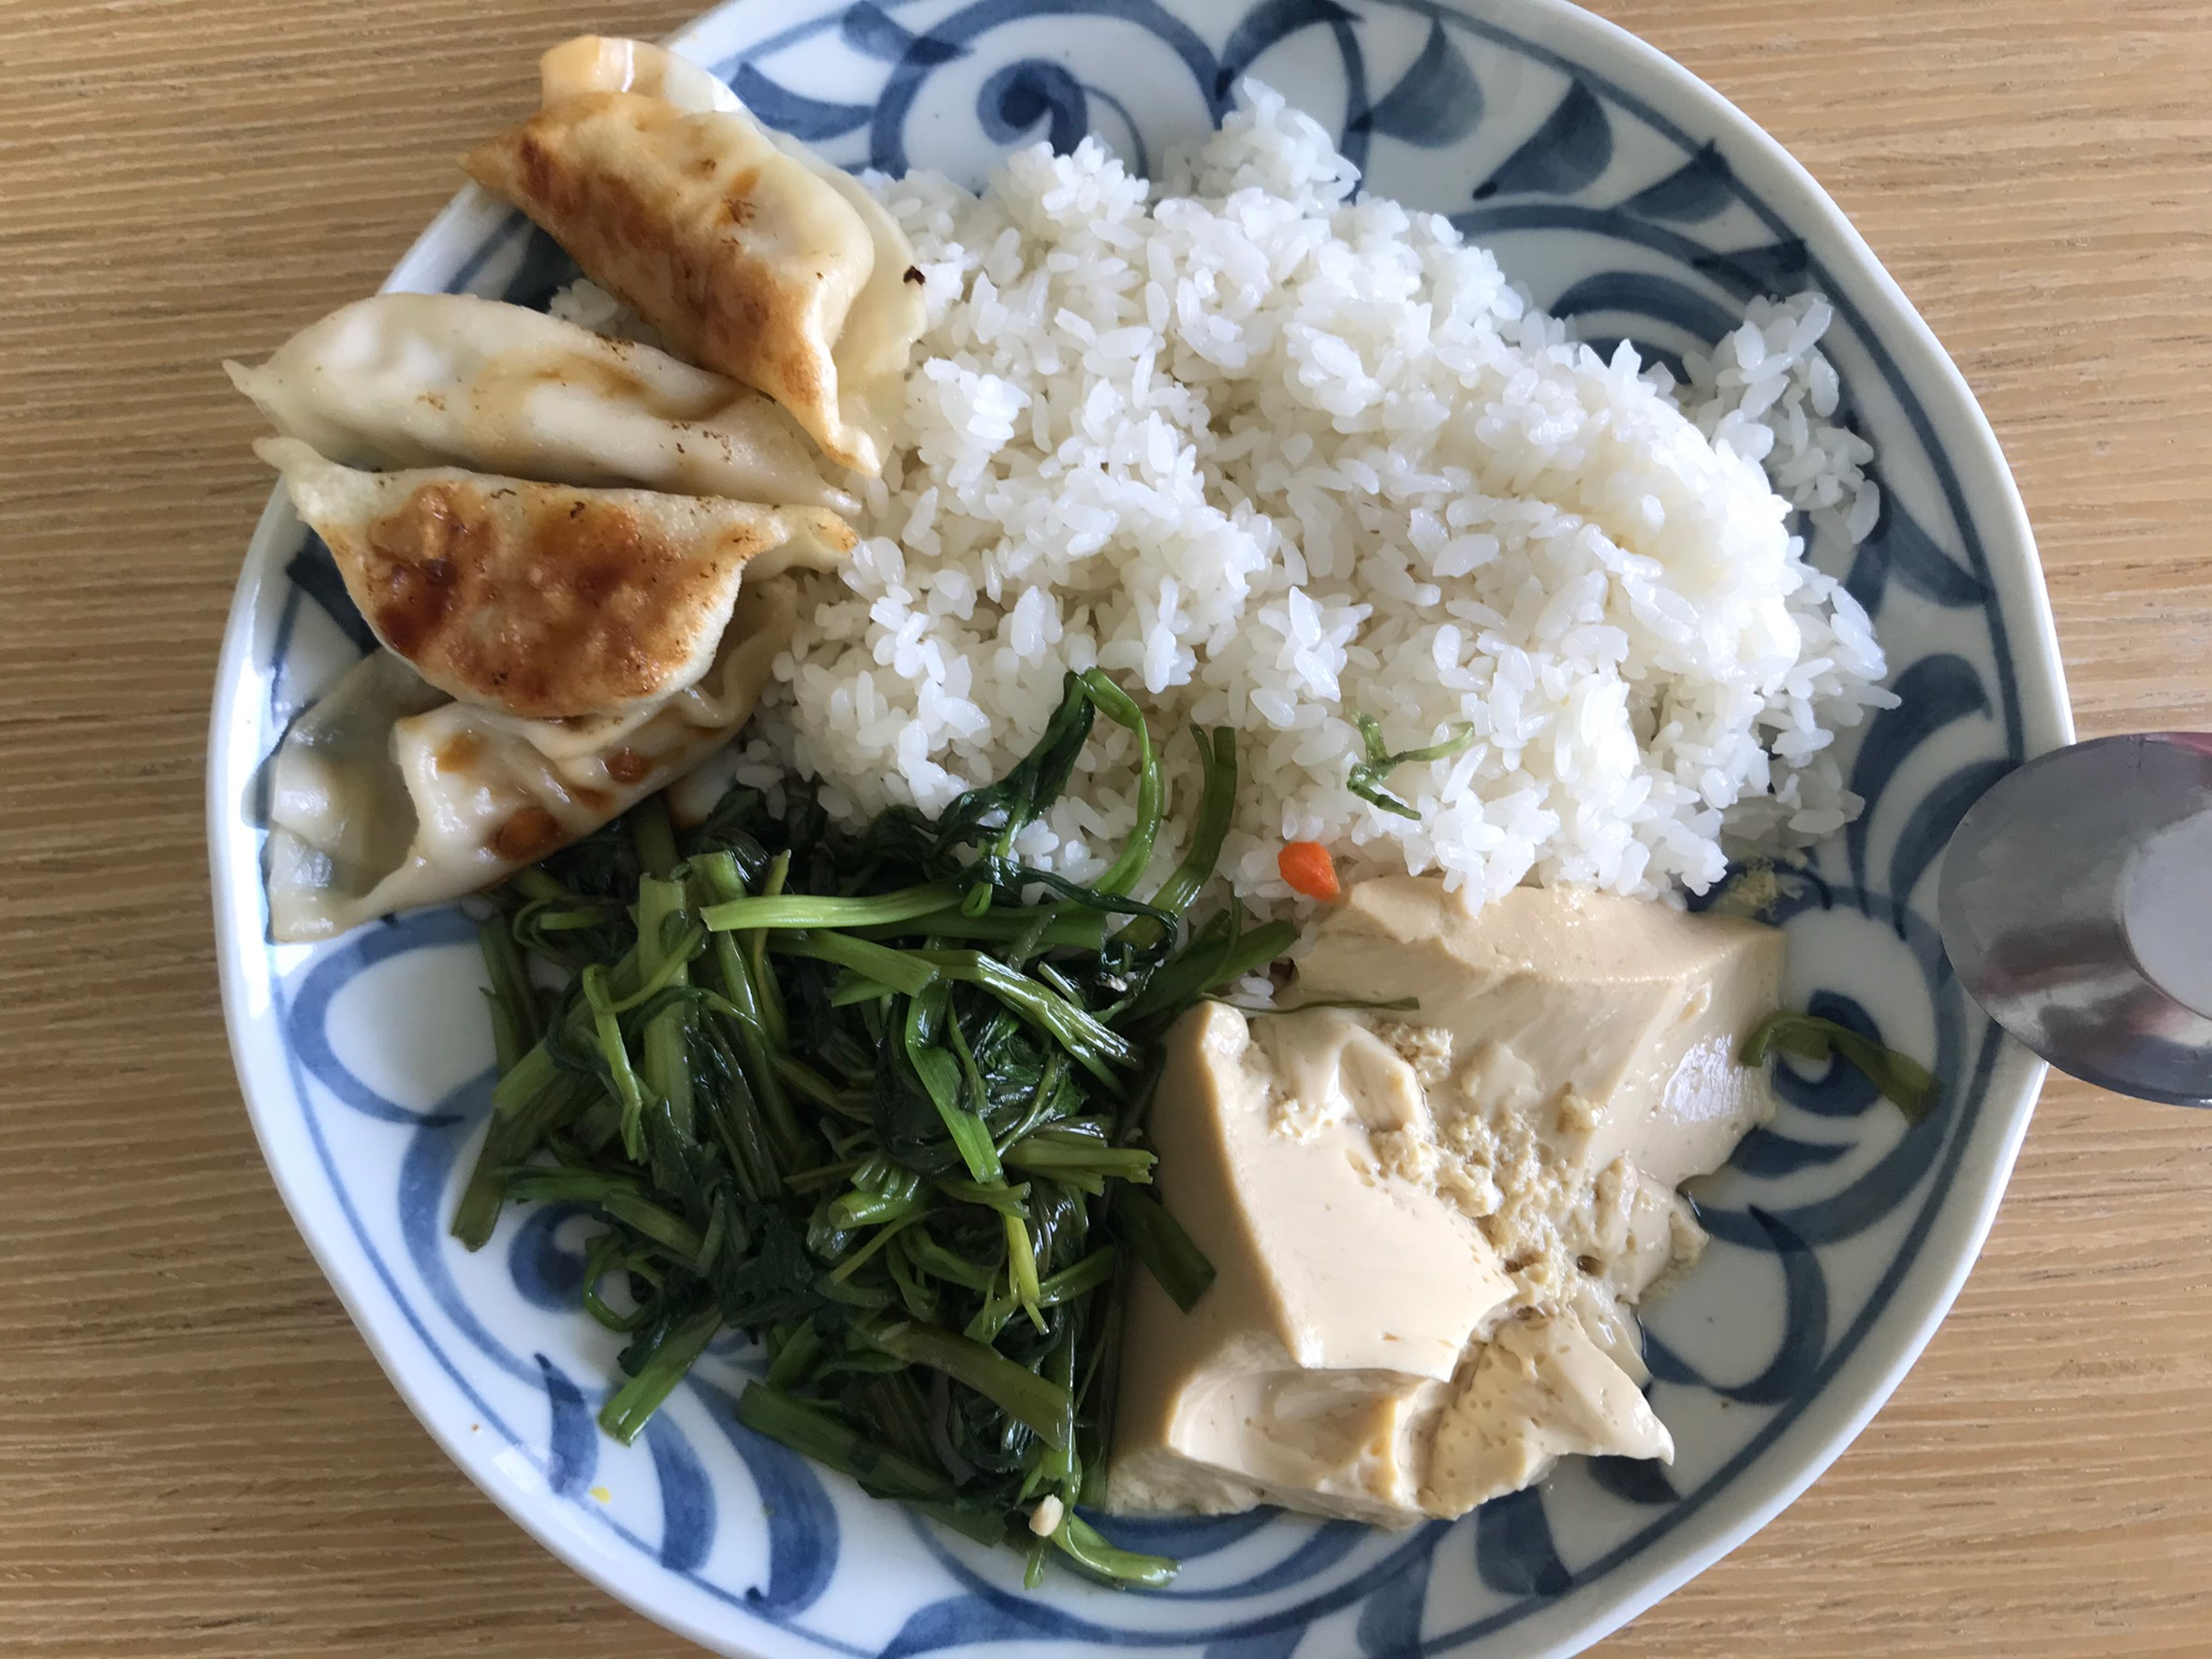fried_dumplings: (293, 122, 826, 864)
rice: (934, 214, 1706, 819)
water_spinach: (634, 856, 1067, 1333)
